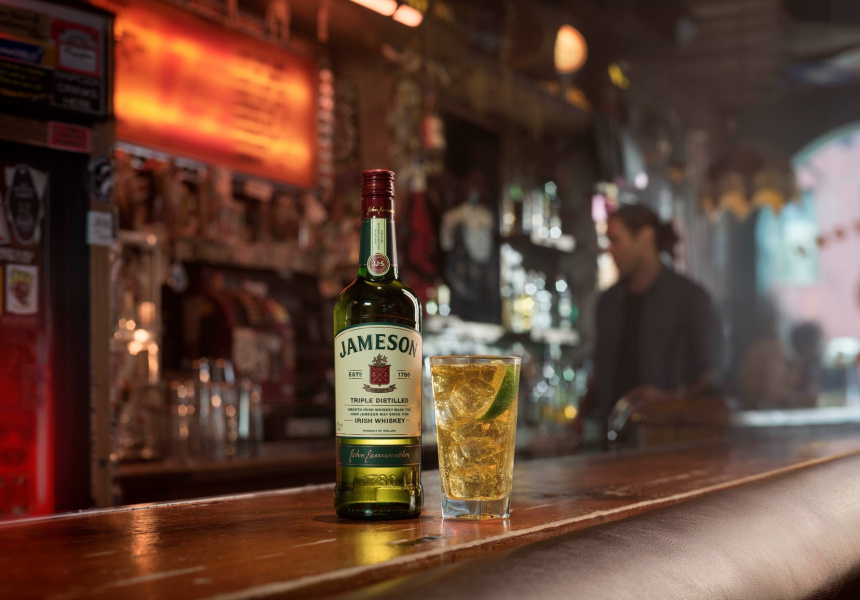Jameson: (317, 157, 438, 531)
